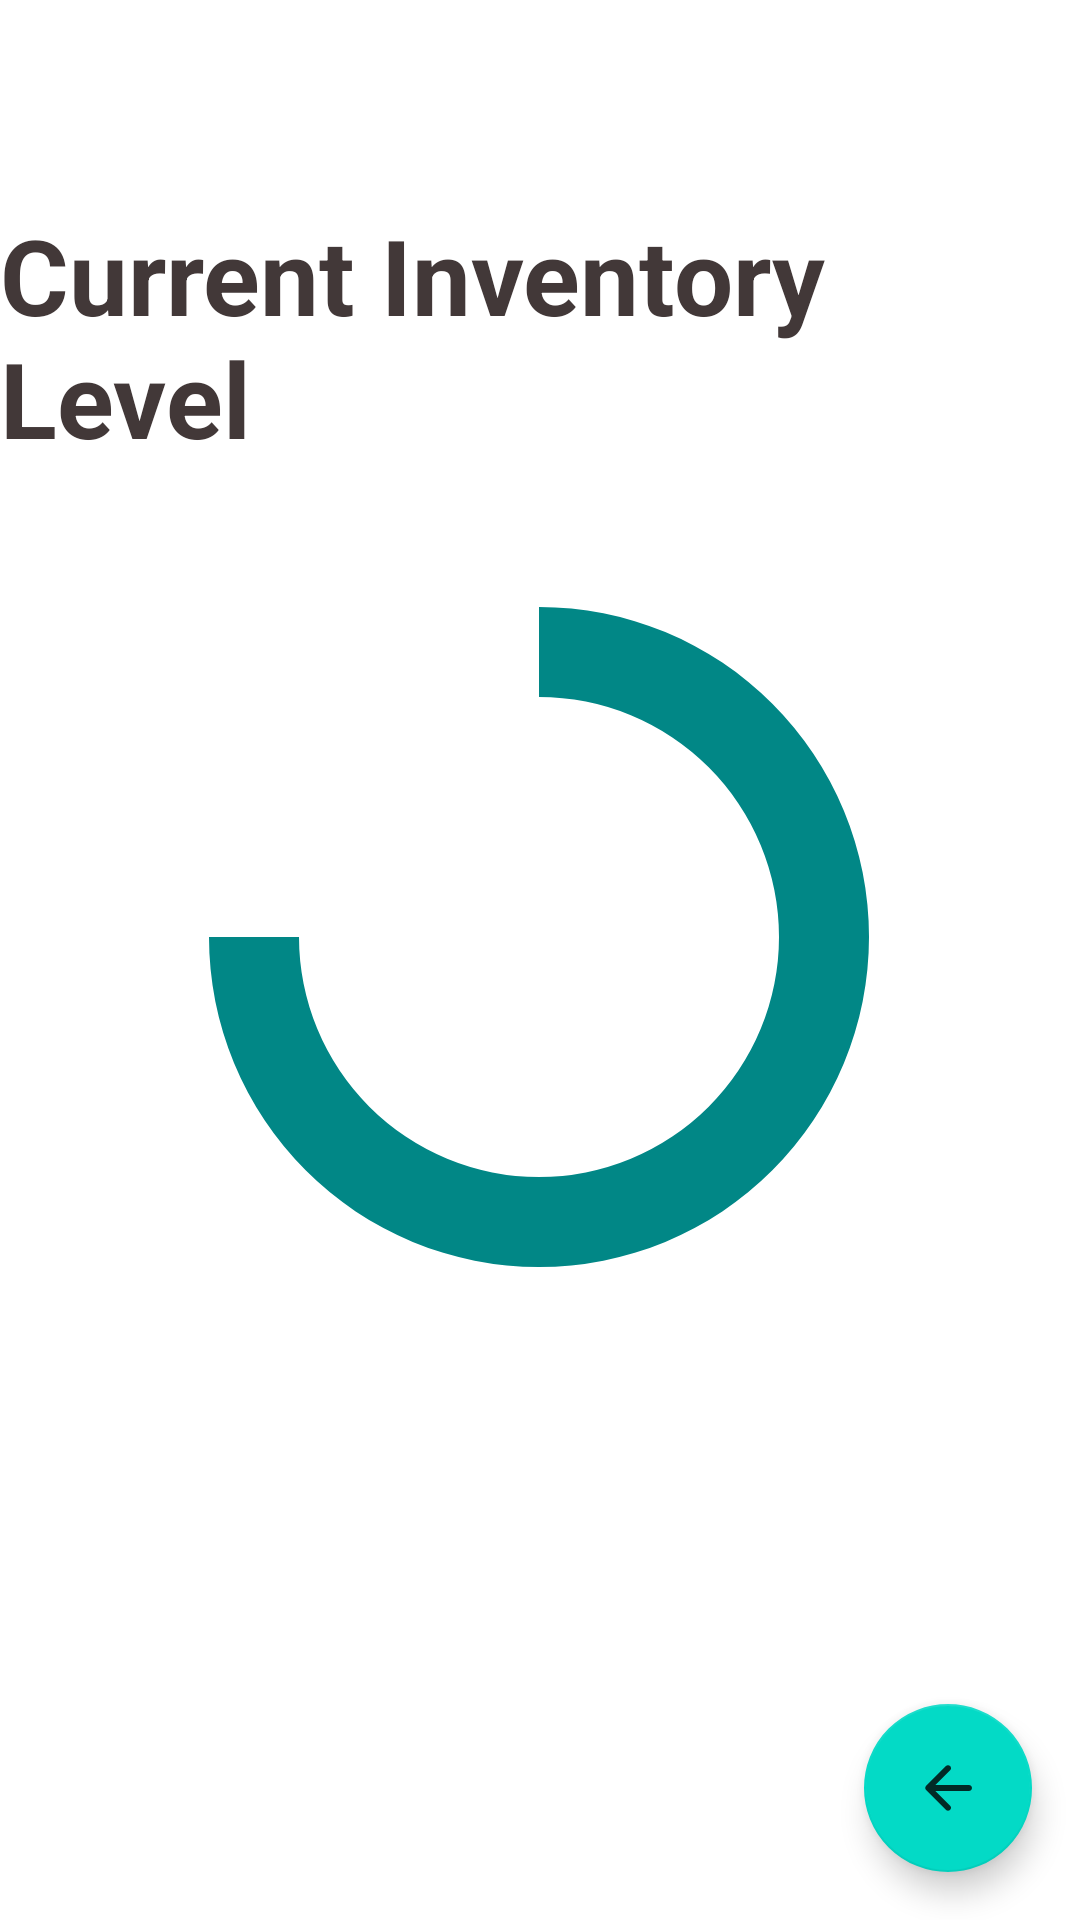

Named icons in this screenshot (1080×1920) and their centers, point (x, y):
arrow back: point (948, 1788)
